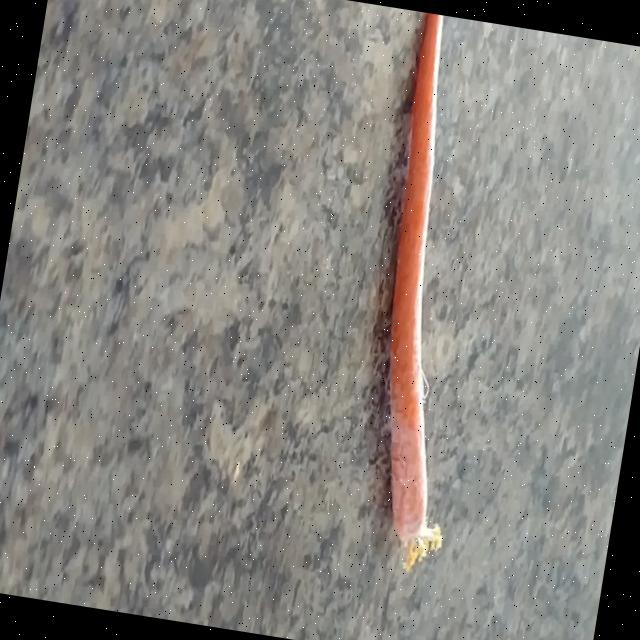carrot: (389, 13, 442, 570)
